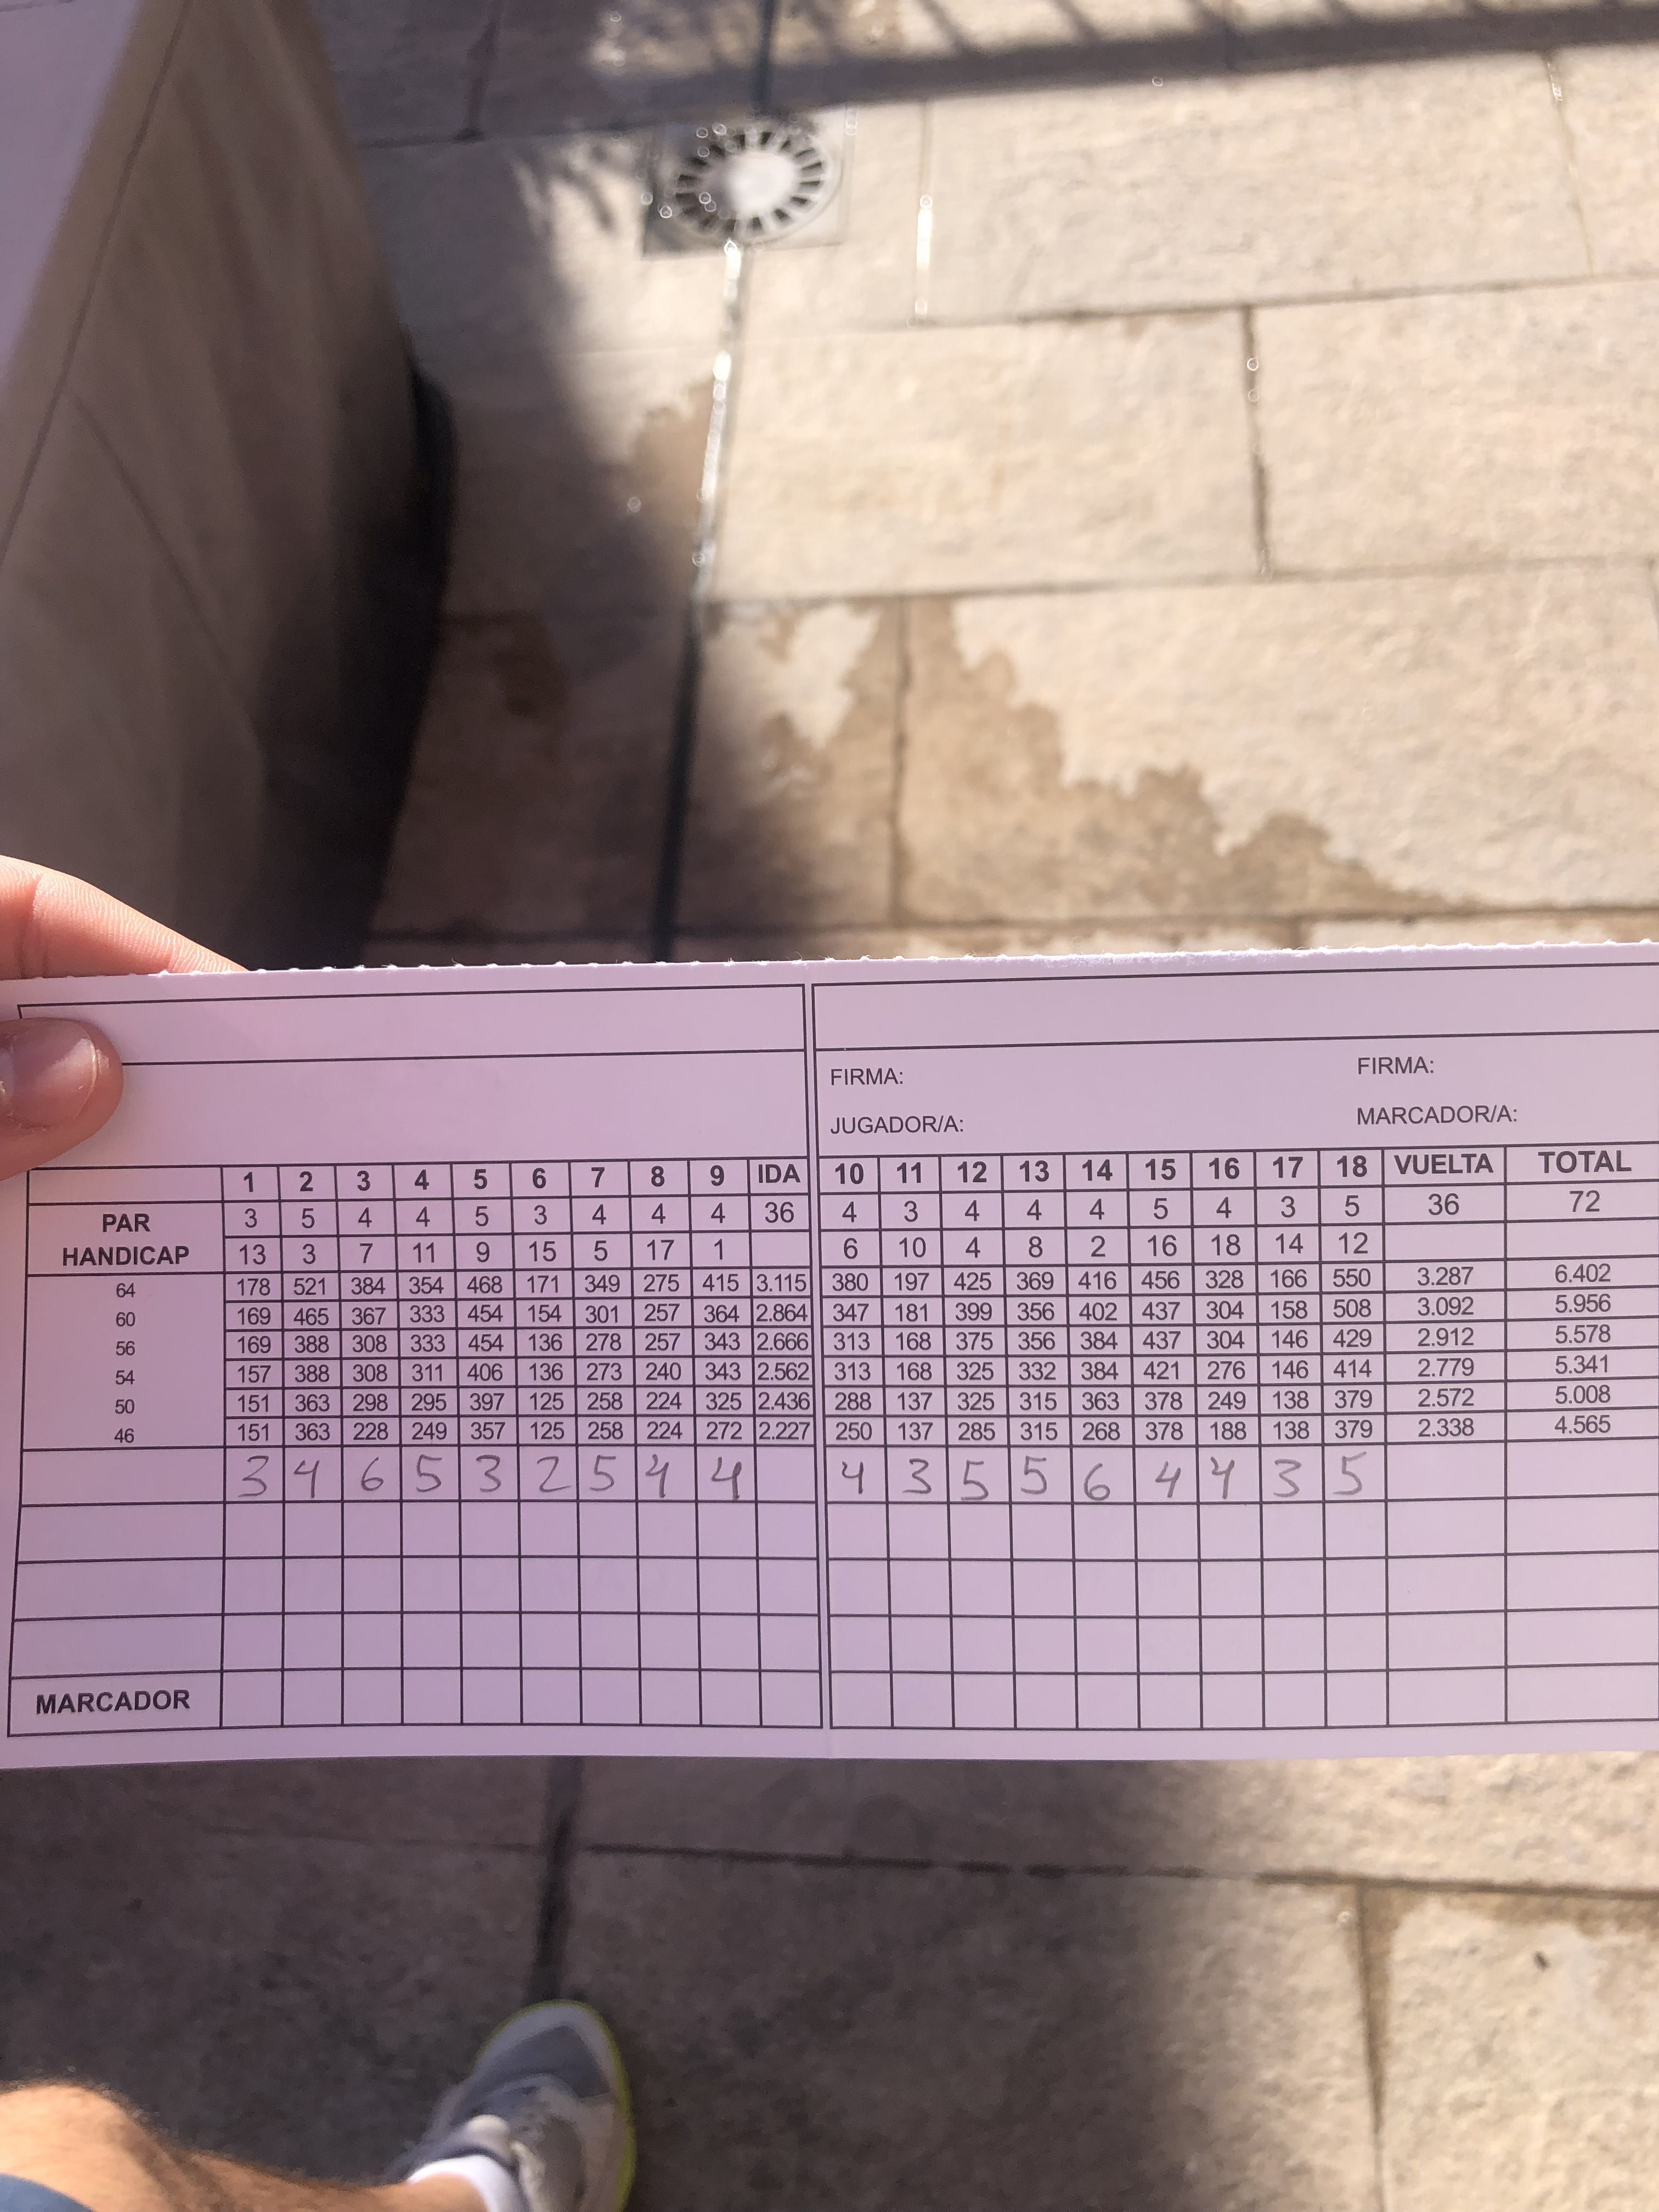par: (101, 1191, 1607, 1237)
score: (242, 1447, 1375, 1500)
